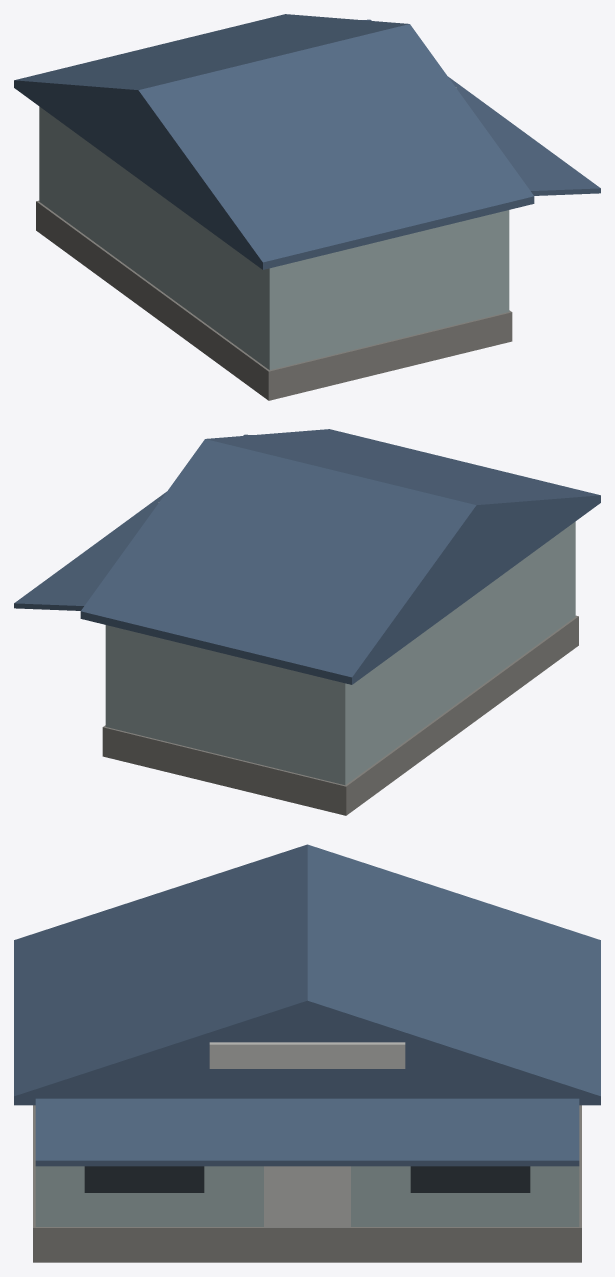
Rendered from SM_Prop_cafe_building_13_LOD2.glb.
3 views of the same model, one above another, from view 1: azimuth 30°, elevation 25°; view 2: azimuth 150°, elevation 25°; view 3: azimuth 270°, elevation 25° (orthographic). The views are drawn at different scales.
Visible parts, largest first — view 1: SM_Prop_cafe_building_13_LOD2; view 2: SM_Prop_cafe_building_13_LOD2; view 3: SM_Prop_cafe_building_13_LOD2.
Boxes of the visible parts, x1,y1,x2,y2 form: SM_Prop_cafe_building_13_LOD2: (14,14,600,400); SM_Prop_cafe_building_13_LOD2: (14,429,600,815); SM_Prop_cafe_building_13_LOD2: (14,844,600,1262).
Bounding box in the file's own units: 8.7 × 5.48 × 10.8.
